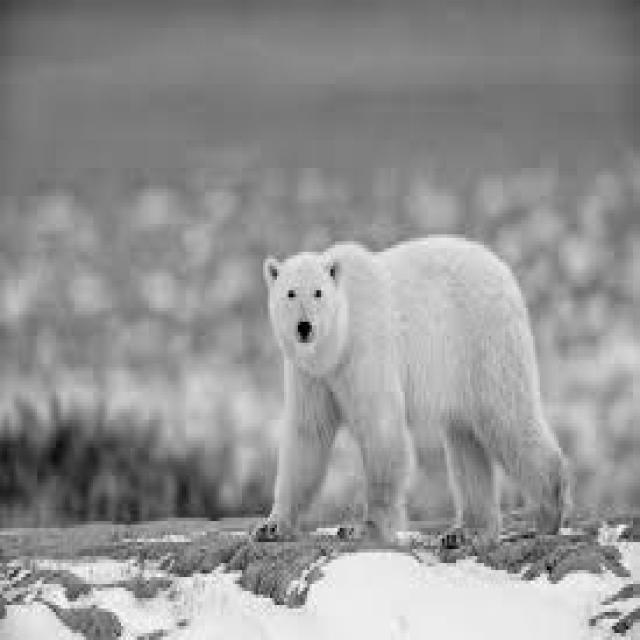Bear: (256, 249, 584, 547)
